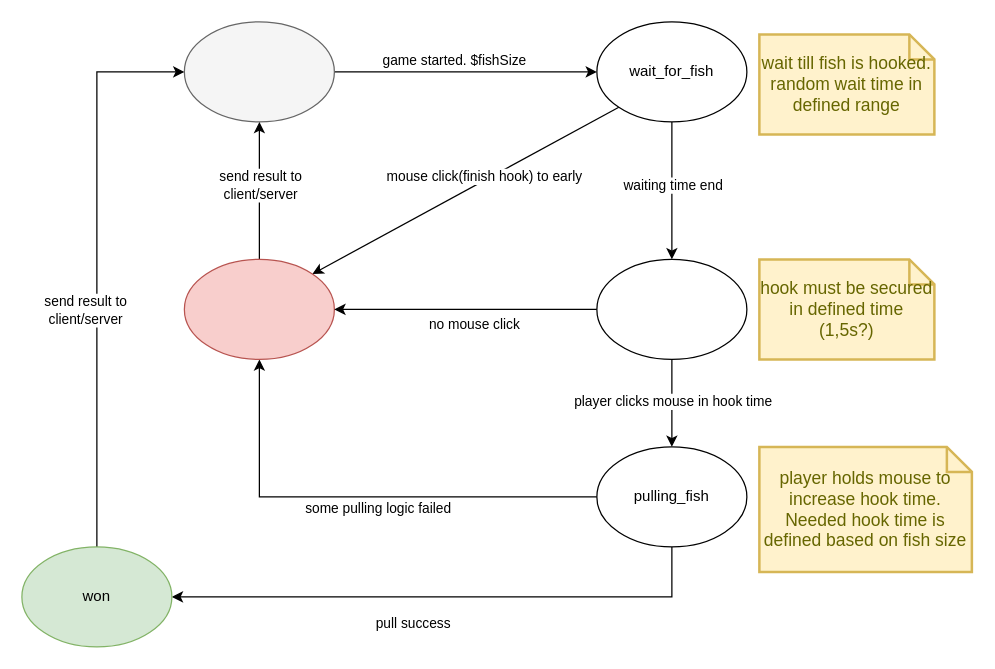
Image size: 995x669. Some labels were removed from this diagram. Here are the shapes that lost their labels. From the top down, the centre of each, then its label:
At point (258, 71): "innactive".
At point (258, 308): "lost".
At point (671, 308): "secure_hook".
